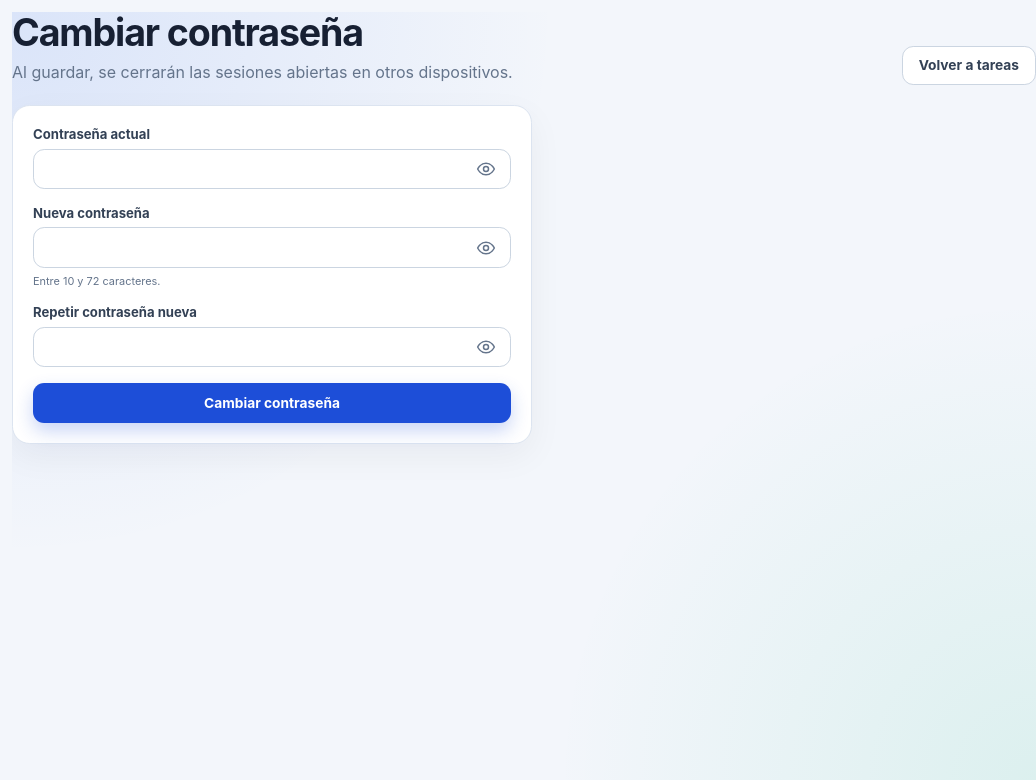
ChangePasswordPage › muestra carga y limpia los campos al cambiar la contraseña
The width and height of the screenshot is (1036, 780).
Later steps or results of the test are not shown.
Type "actual123" into the password field labelled "Contraseña actual" at point(272, 169), box [33,149,511,189]
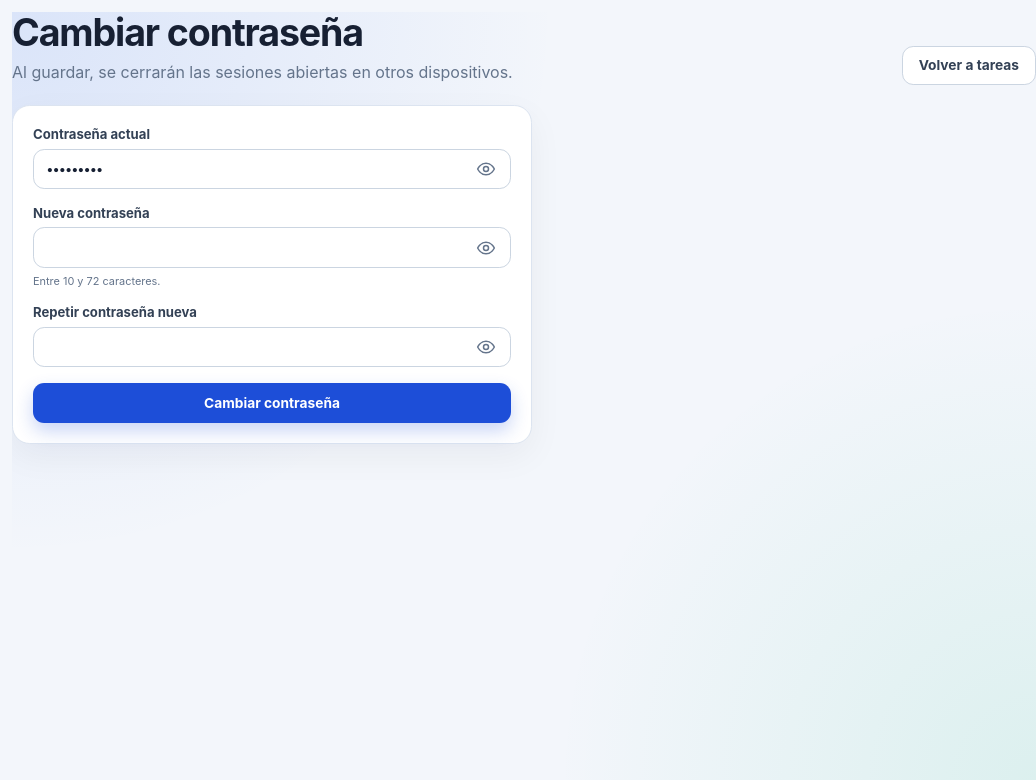
Type "password123" into the password field labelled "Nueva contraseña Entre 10 y 72 caracteres." at point(272, 248), box [33,228,511,268]
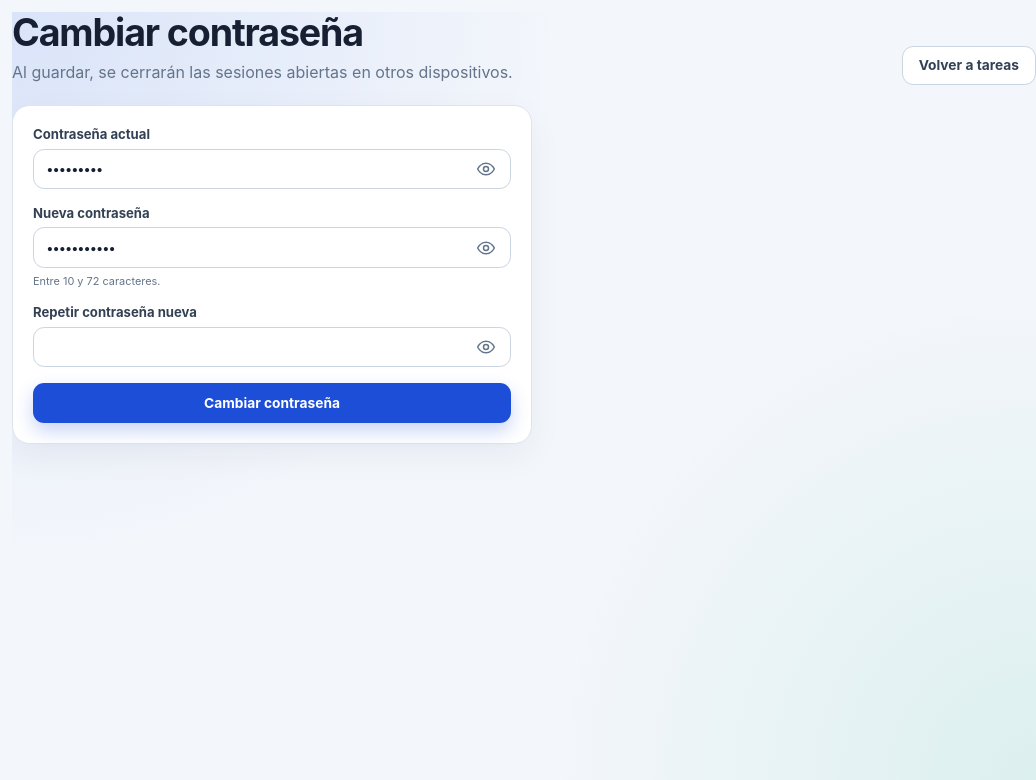
Type "password123" into the password field labelled "Repetir contraseña nueva" at point(272, 347), box [33,327,511,367]
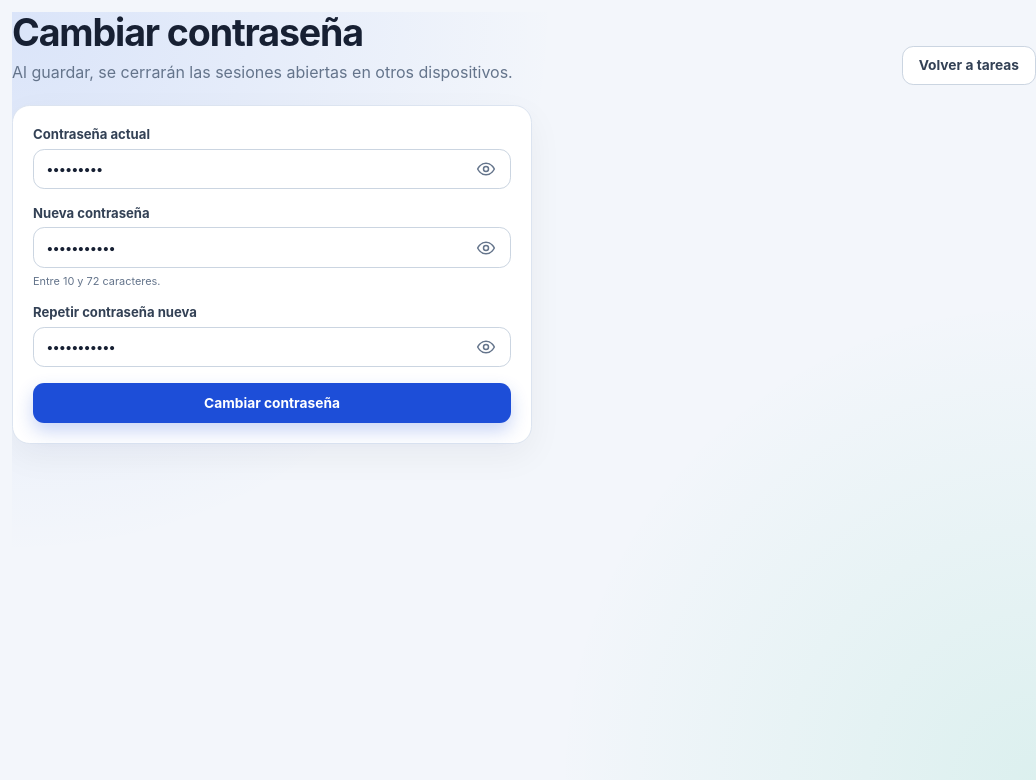
Click the button "Cambiar contraseña" at point(272, 403), box [33,383,511,423]
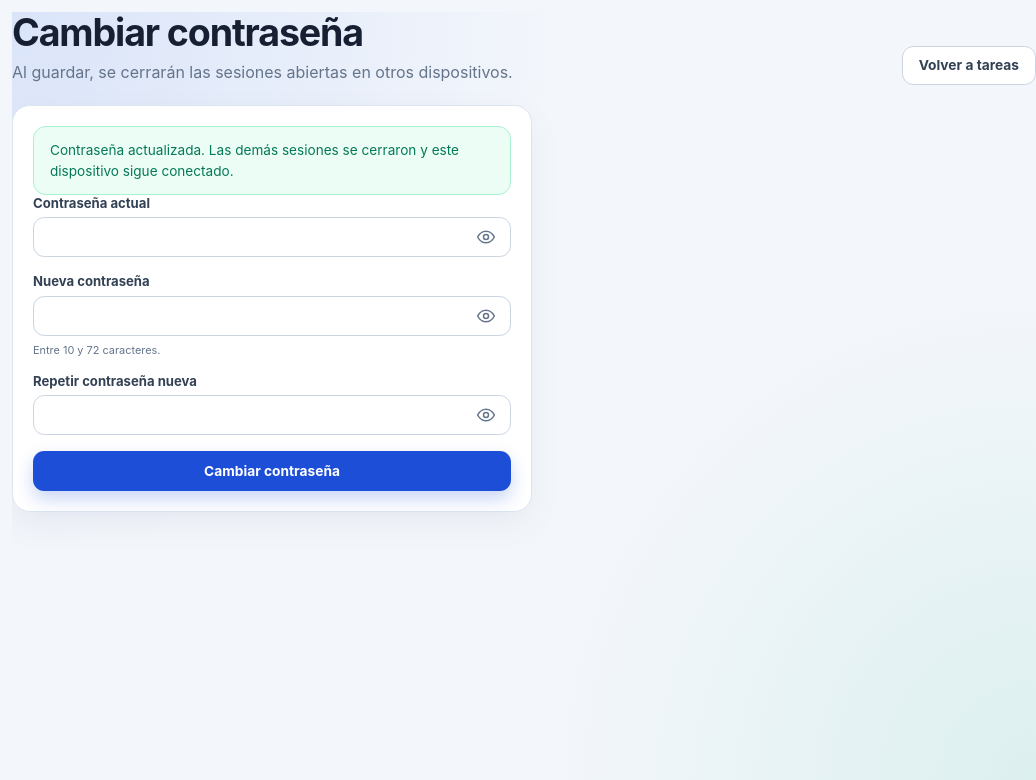
Now the message shows "Contraseña actualizada", box [50,142,459,178]
Now the password field labelled "Contraseña actual" is empty, box [33,217,511,258]
Now the password field labelled "Nueva contraseña Entre 10 y 72 caracteres." is empty, box [33,296,511,336]
